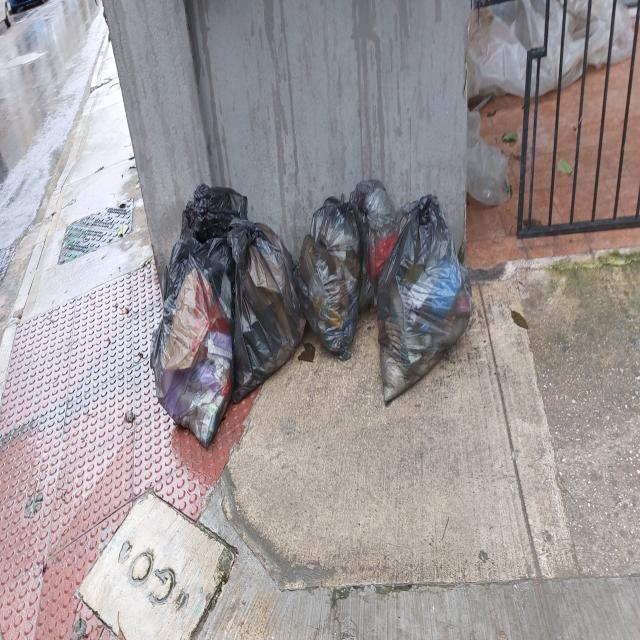Mixed Waste -Black Bag-: (378, 194, 474, 407), (151, 242, 236, 448), (228, 217, 309, 404), (294, 197, 366, 365), (350, 179, 402, 313), (181, 186, 248, 254)
